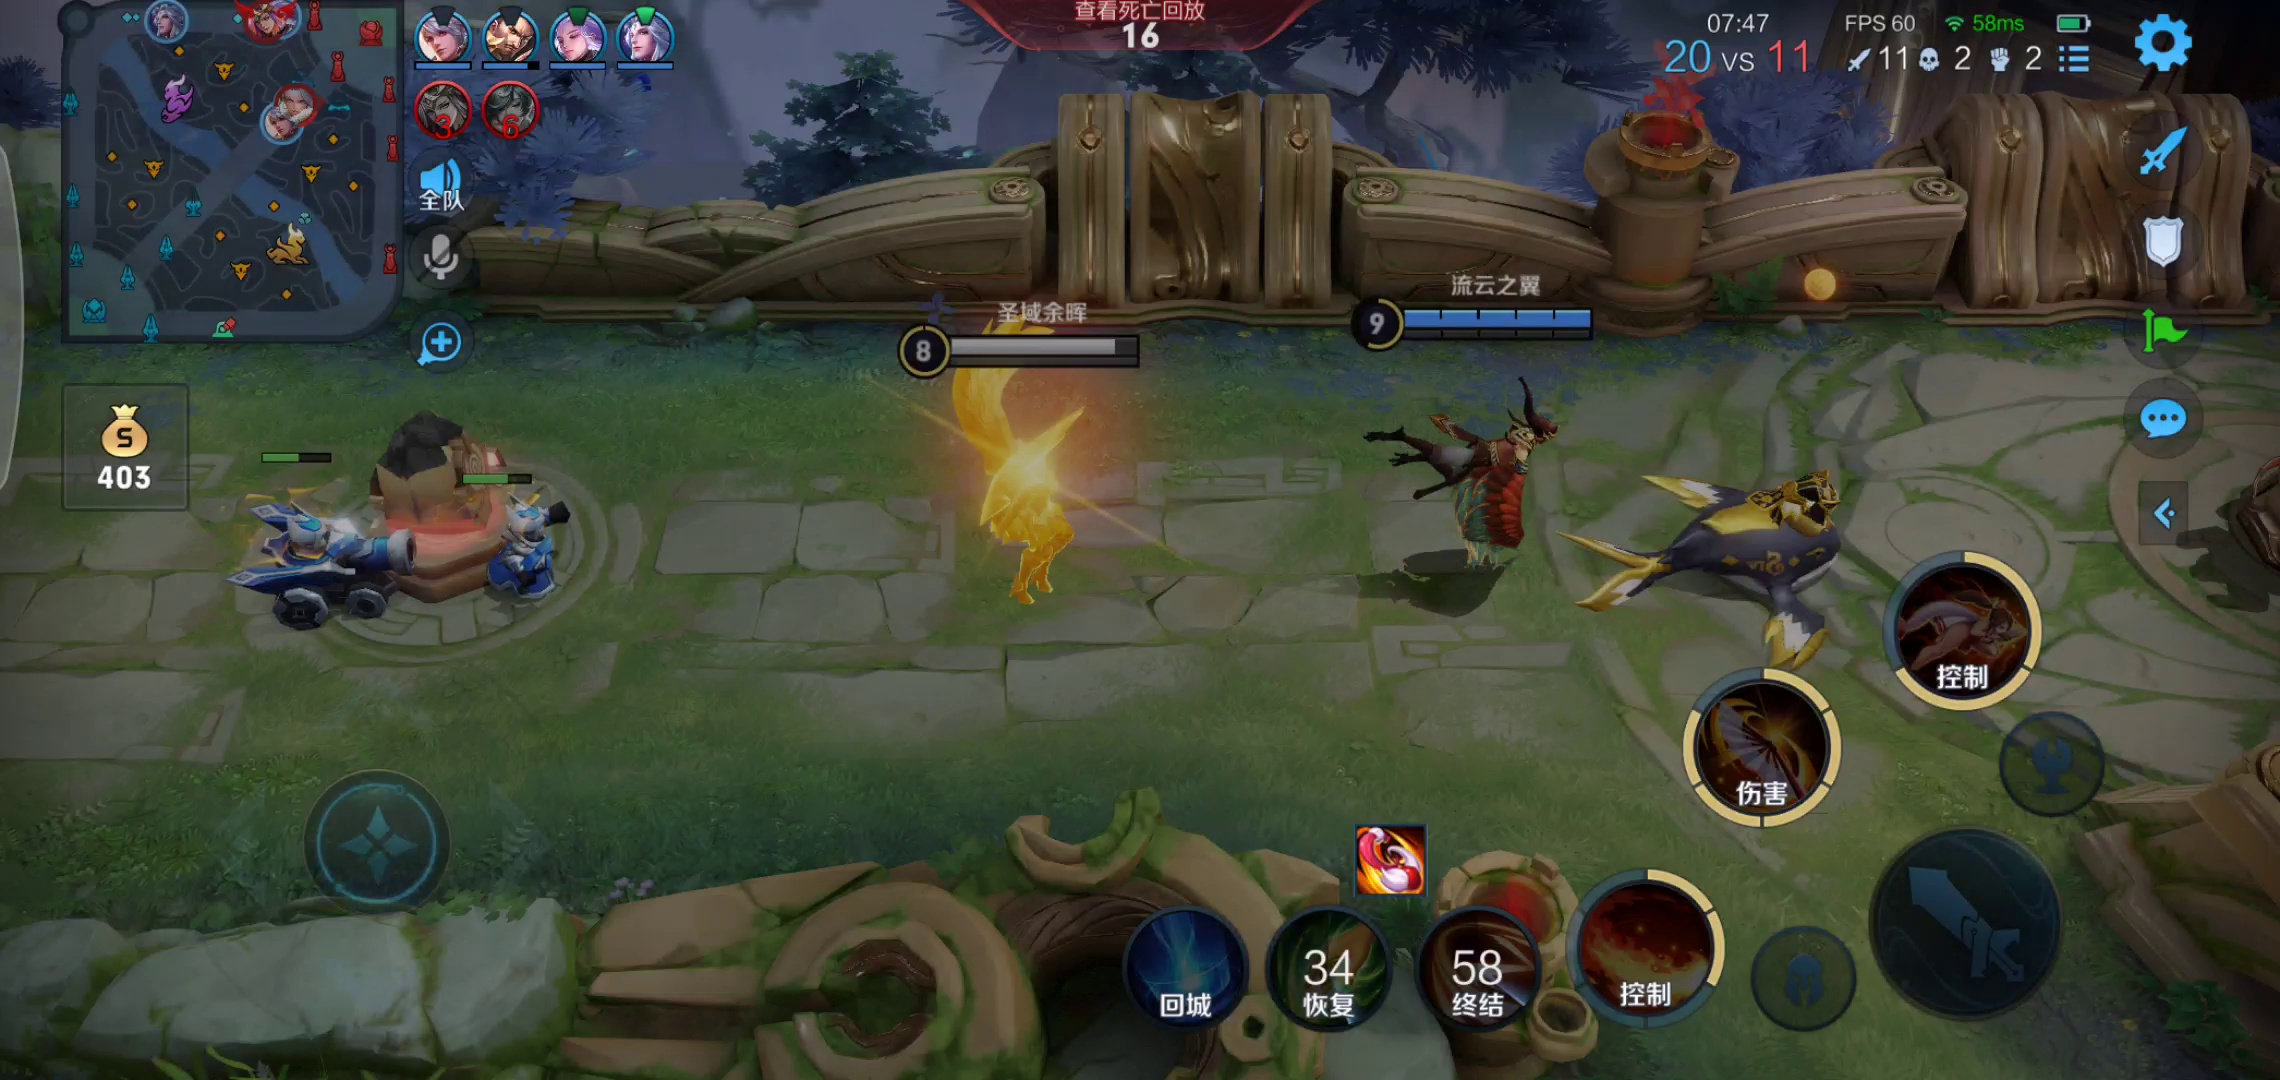hero: (1597, 446, 1842, 664), (1362, 387, 1566, 584), (920, 388, 1107, 602)
soldier: (237, 494, 390, 624), (470, 501, 574, 605)
tower: (358, 398, 502, 560)
